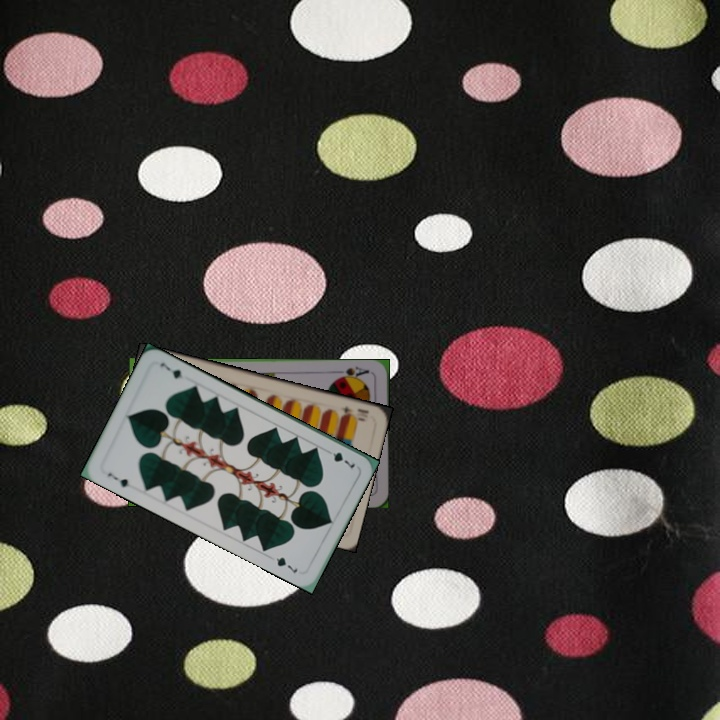E10: (337, 402, 367, 424)
G7: (321, 445, 358, 471), (103, 469, 132, 490)
SA: (332, 362, 372, 382)
